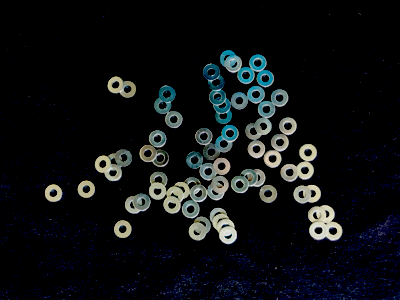circle: (77, 179, 98, 200), (43, 183, 63, 204), (324, 222, 345, 242), (181, 199, 201, 219), (292, 184, 312, 204), (309, 221, 329, 241), (195, 126, 214, 147), (303, 182, 322, 203), (317, 204, 336, 225), (229, 93, 251, 111), (139, 144, 159, 163), (188, 223, 208, 242), (271, 88, 290, 108), (257, 99, 276, 119), (278, 115, 297, 135), (271, 132, 290, 152), (264, 149, 283, 169), (295, 162, 315, 181), (104, 153, 125, 171), (158, 85, 177, 104), (213, 157, 232, 176), (207, 182, 226, 201), (215, 135, 234, 154), (221, 124, 240, 143), (208, 88, 227, 107), (259, 184, 278, 203), (225, 55, 244, 74), (219, 49, 238, 68), (247, 140, 266, 159), (298, 143, 317, 162), (124, 195, 142, 215), (214, 107, 234, 125), (206, 74, 226, 92), (201, 63, 221, 81), (249, 53, 267, 73), (255, 117, 273, 137), (211, 97, 232, 114), (149, 129, 167, 148), (152, 149, 170, 168), (114, 220, 132, 239), (149, 183, 167, 202), (192, 216, 211, 234), (199, 163, 218, 181), (211, 176, 230, 194), (219, 227, 238, 245), (217, 219, 236, 237), (249, 169, 267, 188), (247, 86, 266, 104), (257, 70, 275, 89), (238, 66, 256, 85), (281, 163, 299, 182), (116, 148, 133, 168), (212, 214, 232, 231), (307, 206, 327, 223), (154, 97, 172, 115), (133, 193, 151, 211), (150, 171, 168, 189), (164, 197, 182, 215), (167, 186, 185, 204), (173, 181, 191, 199), (185, 152, 203, 170), (95, 155, 112, 174), (104, 165, 123, 182), (165, 111, 184, 128), (184, 177, 201, 196), (209, 207, 228, 224), (232, 176, 249, 195), (108, 75, 124, 95), (241, 167, 257, 187), (203, 144, 221, 161), (245, 122, 262, 140), (118, 82, 137, 98), (191, 184, 207, 203)
